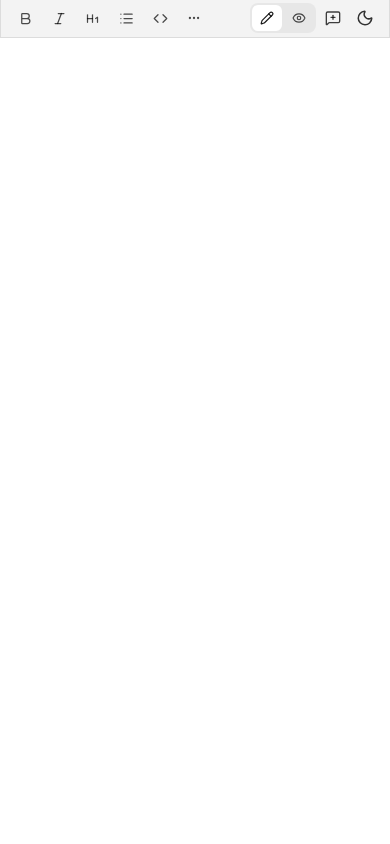
Test: Toolbar › opens the overflow sheet exposing the non-primary tools
Click the button named "More tools": (194,18) 179,5 -> 209,31
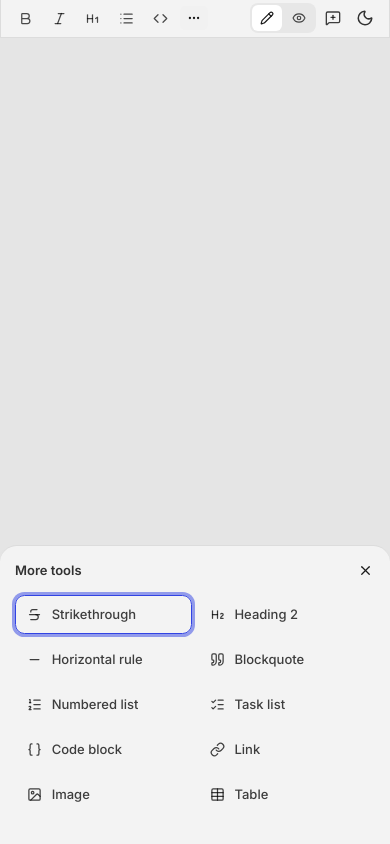
Expected: the button "Strikethrough" is shown, 15,595 -> 192,634
Expected: the button "Code block" is shown, 15,730 -> 192,769
